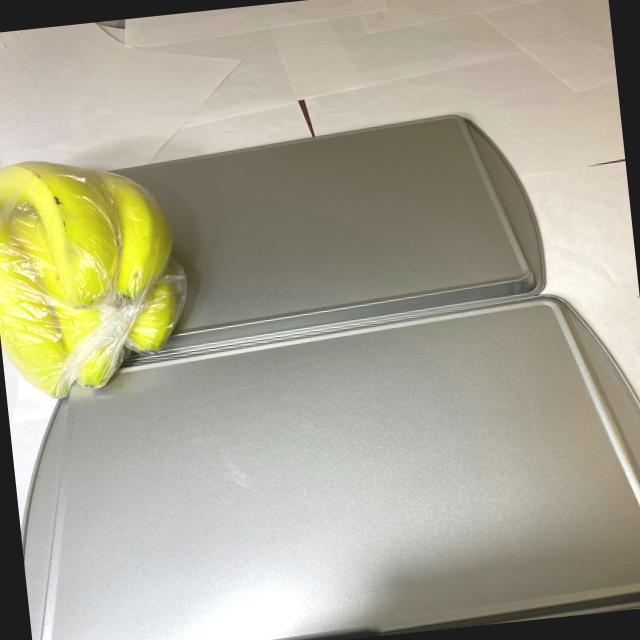banana: (0, 141, 199, 411)
